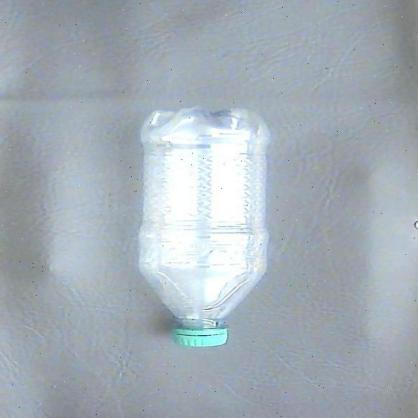bottle: (126, 104, 278, 350)
cap: (162, 314, 232, 346)
